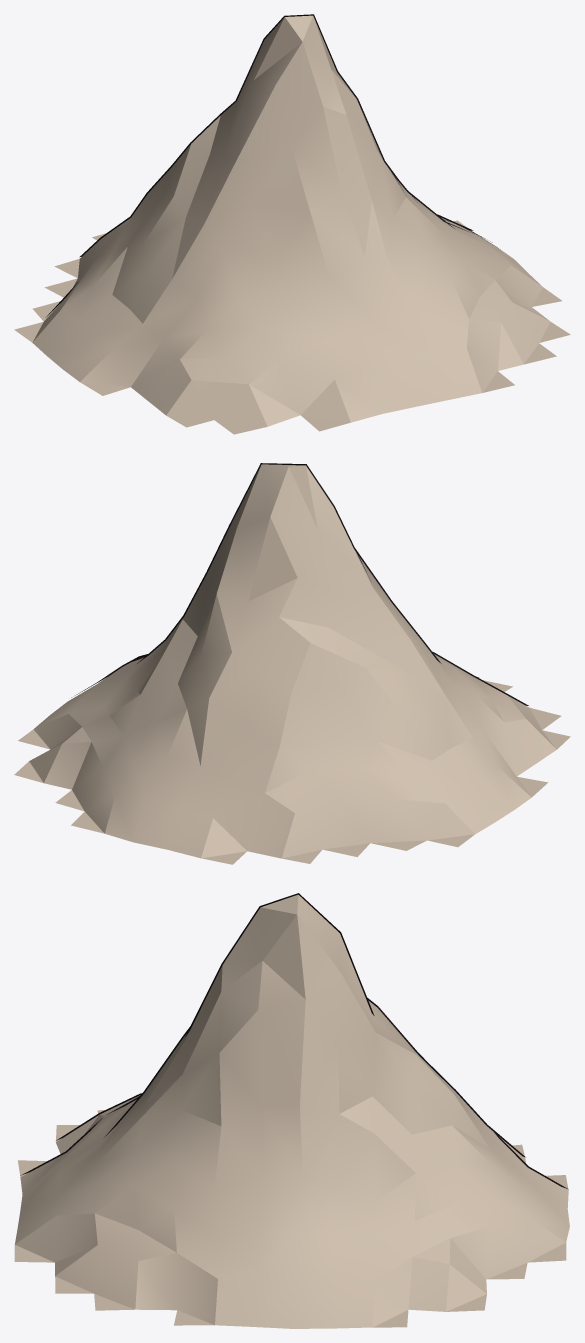
File: SM_Cliff_04.fbx
3 views of the same model, one above another, from view 1: azimuth 30°, elevation 25°; view 2: azimuth 150°, elevation 25°; view 3: azimuth 270°, elevation 25° (orthographic). The views are drawn at different scales.
Visible parts, largest first — view 1: SM_Cliff_04; view 2: SM_Cliff_04; view 3: SM_Cliff_04.
Boxes of the visible parts, x1=… form: SM_Cliff_04: x1=14, y1=14, x2=570, y2=434; SM_Cliff_04: x1=14, y1=463, x2=570, y2=864; SM_Cliff_04: x1=14, y1=893, x2=569, y2=1328.
Size of the model in its own units: 17.89 by 11.18 by 17.78.
